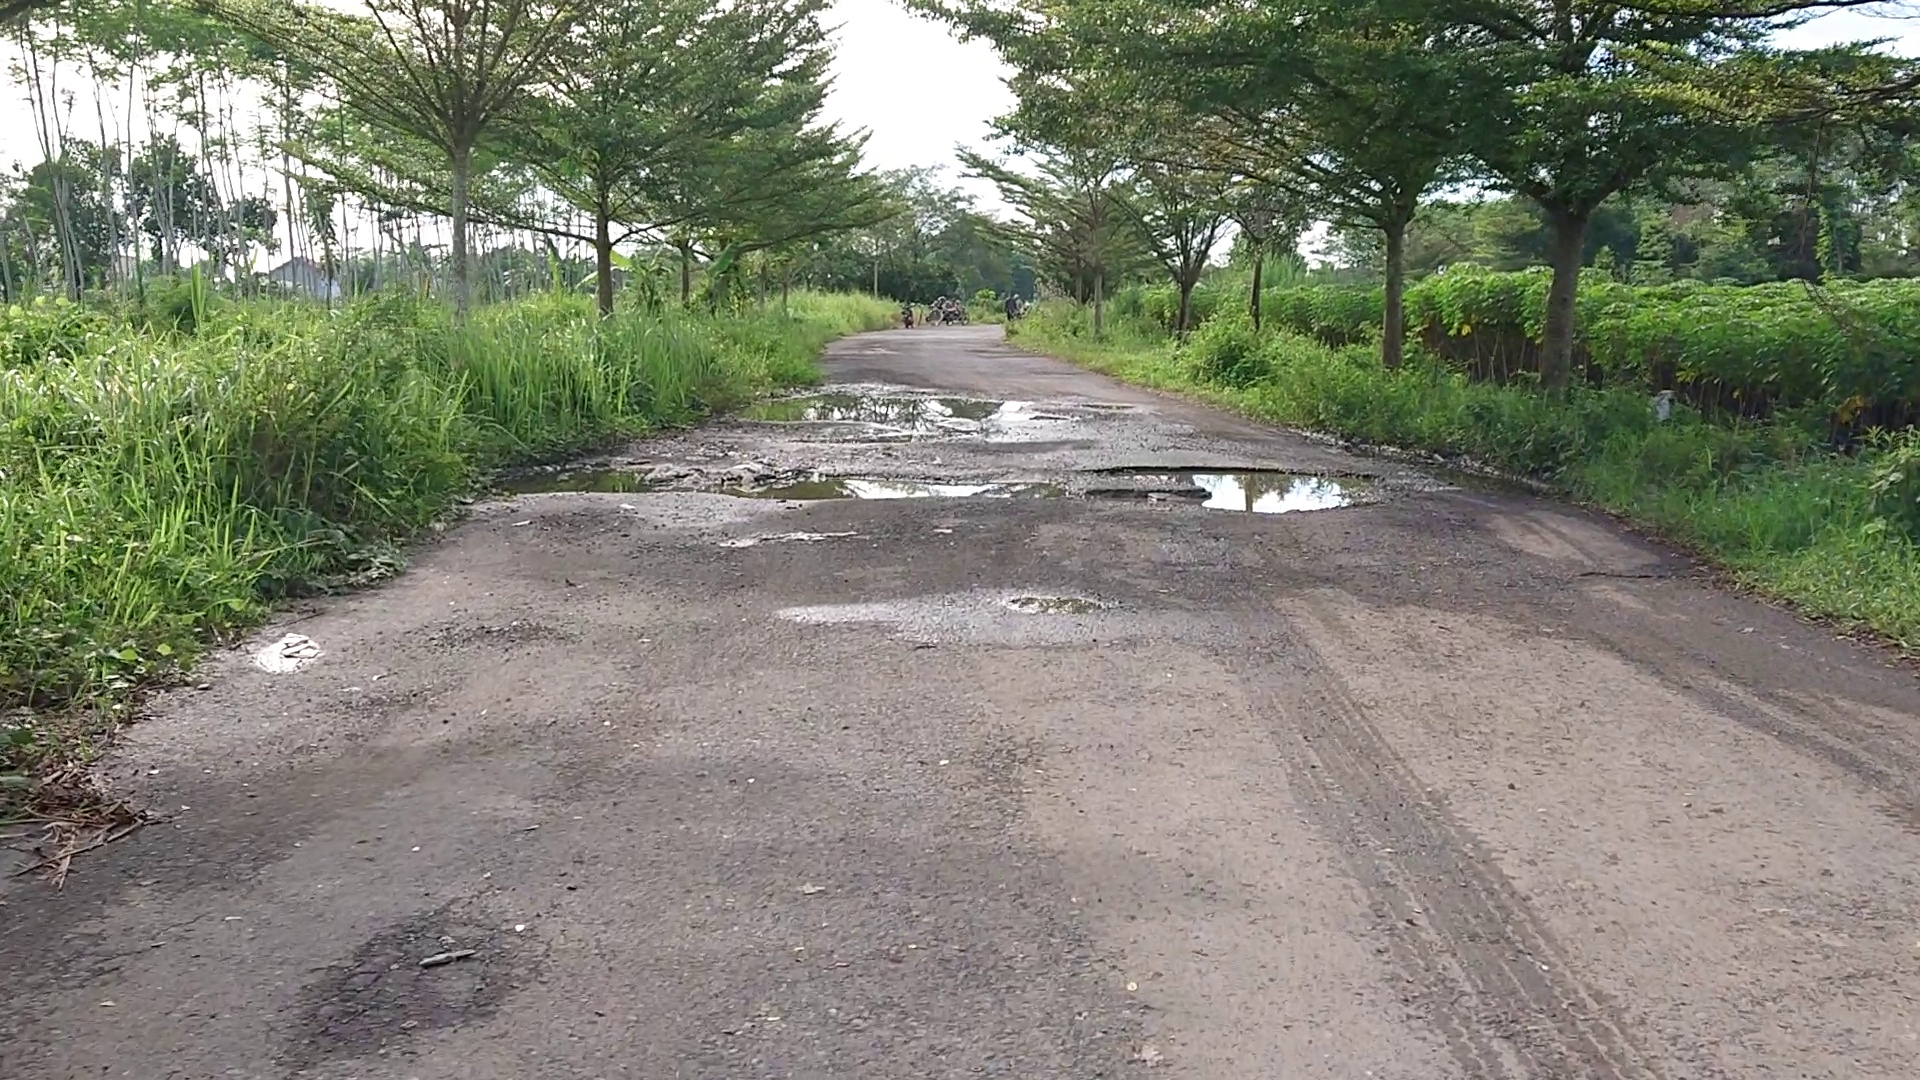Berlubang: (765, 385, 1079, 439), (1104, 472, 1387, 520), (742, 467, 1064, 506), (525, 473, 713, 502)
